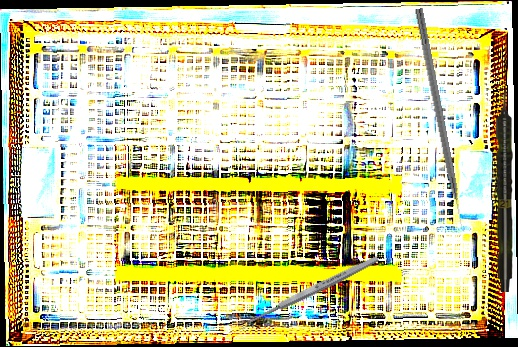Handpiece: (496, 89, 514, 292)
Hook Surgical: (412, 8, 466, 230)
Surgical Spoon: (236, 254, 380, 331)
